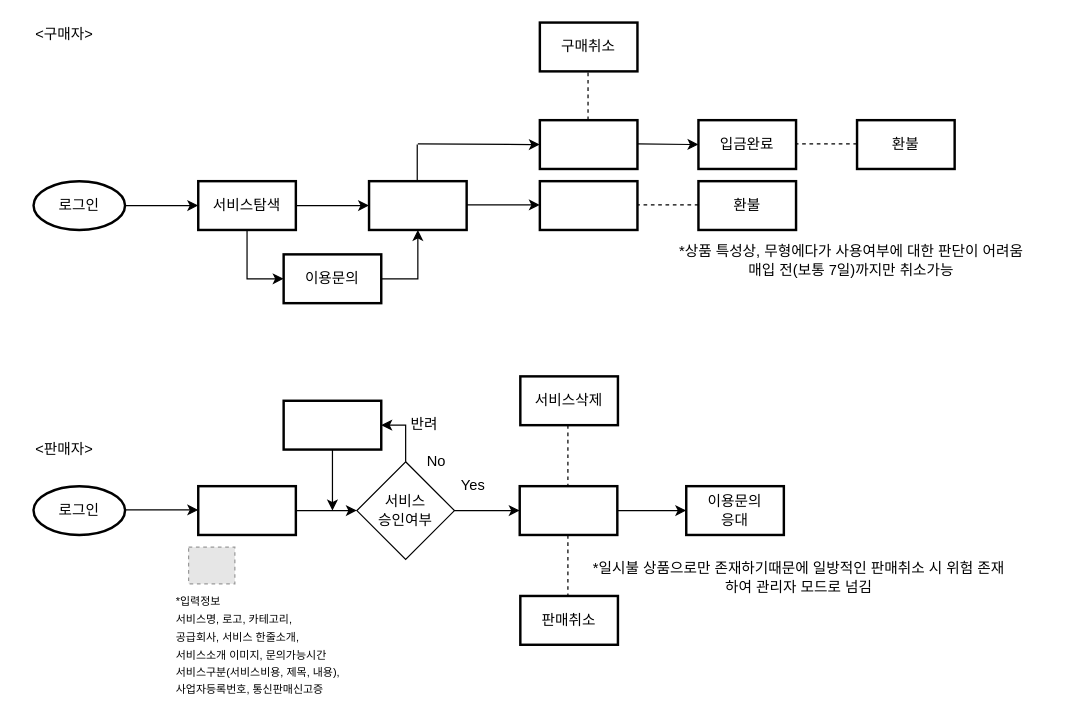
This 1066x726 diagram has some shape labels left out. Grey dashed boxes stand in for pictures. Here are the shapes that lost their labels. From the top down, the centre of each, then its label:
At (588,144): "입금대기".
At (417,205): "구매".
At (588,205): "결제완료 (카드)".
At (332,424): "서비스수정".
At (246,510): "서비스등록".
At (568,510): "판매".
